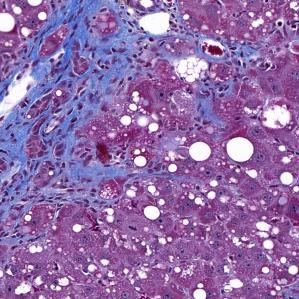fibrosis: (51, 7, 140, 85), (7, 102, 95, 179), (172, 26, 262, 92)
